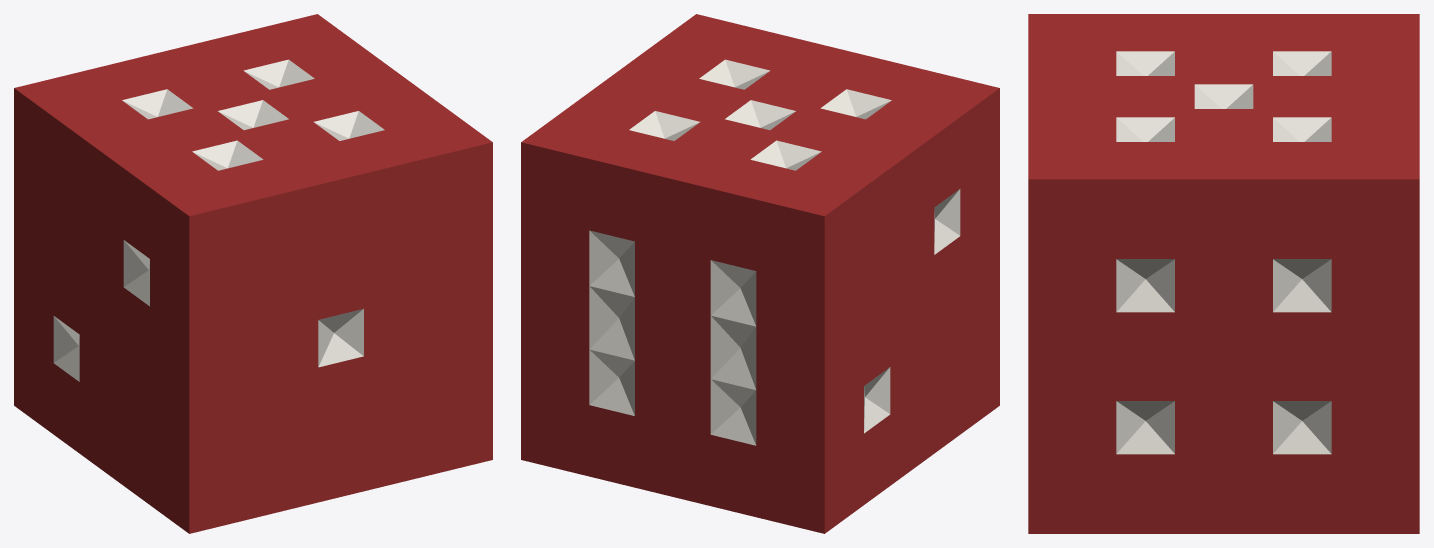
Rendered from Dice2.glb.
3 views of the same model, side by side, from view 1: azimuth 30°, elevation 25°; view 2: azimuth 150°, elevation 25°; view 3: azimuth 270°, elevation 25° (orthographic). The views are drawn at different scales.
Visible parts, largest first — view 1: Cube; view 2: Cube; view 3: Cube.
Part boxes in pixels (left/top/right/bottom): Cube: left=14, top=14, right=492, bottom=533; Cube: left=521, top=14, right=999, bottom=533; Cube: left=1028, top=14, right=1419, bottom=533.
Bounding box in the file's own units: 2 × 2 × 2.
